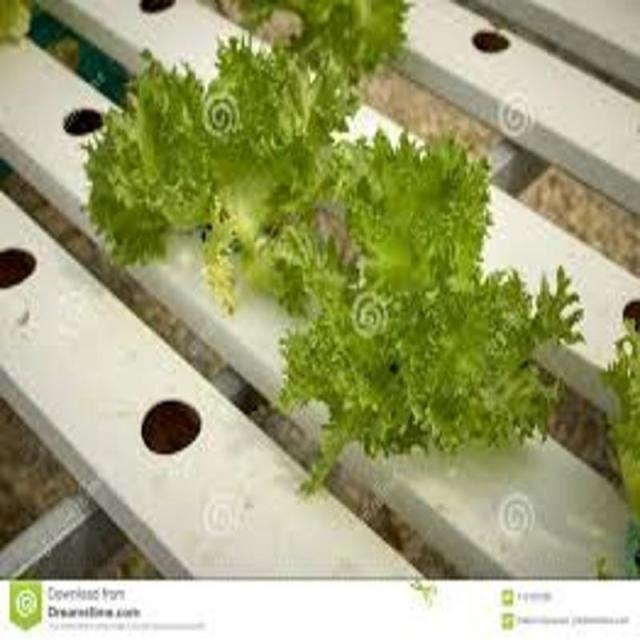Lettuce: (275, 121, 583, 502), (83, 27, 367, 305)
